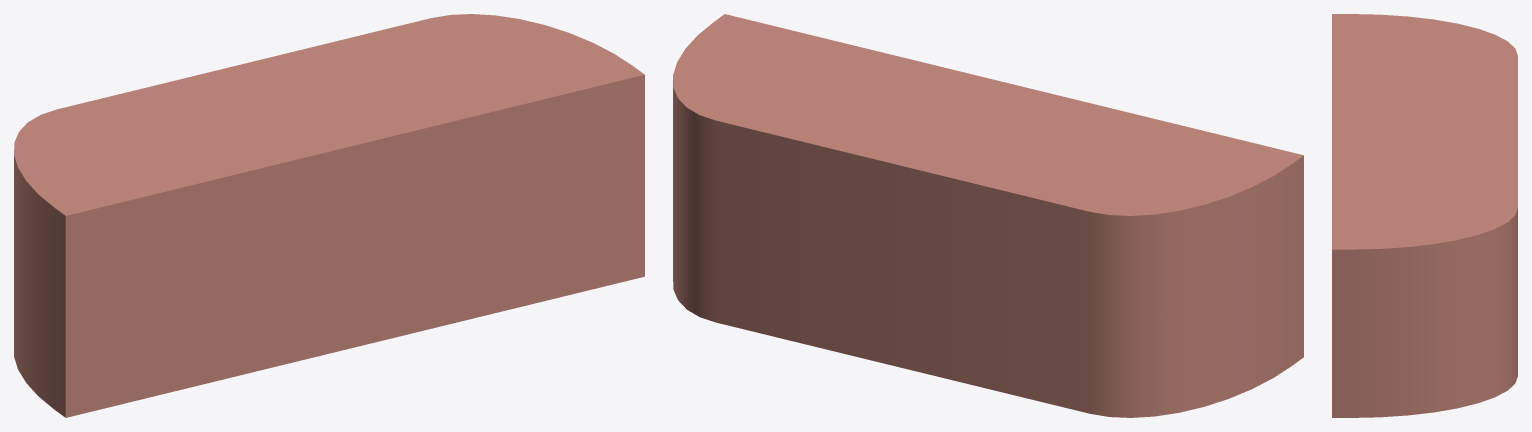
The model's file is RoundedBlock03_30x10.fbx.
3 renders of one model, left to right at view 1: azimuth 30°, elevation 25°; view 2: azimuth 150°, elevation 25°; view 3: azimuth 270°, elevation 25°, orthographic. The views are drawn at different scales.
Visible parts, largest first — view 1: RoundedBlock03.002; view 2: RoundedBlock03.002; view 3: RoundedBlock03.002.
Boxes of the visible parts, x1=… form: RoundedBlock03.002: x1=14, y1=14, x2=644, y2=417; RoundedBlock03.002: x1=673, y1=14, x2=1303, y2=417; RoundedBlock03.002: x1=1332, y1=14, x2=1517, y2=417.
Size of the model in its own units: 3001 by 1000 by 1000.
